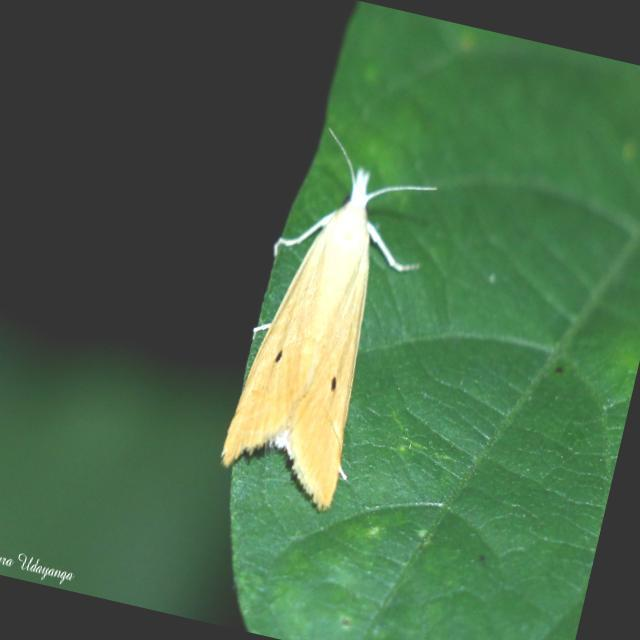stem borer: (221, 111, 458, 510)
